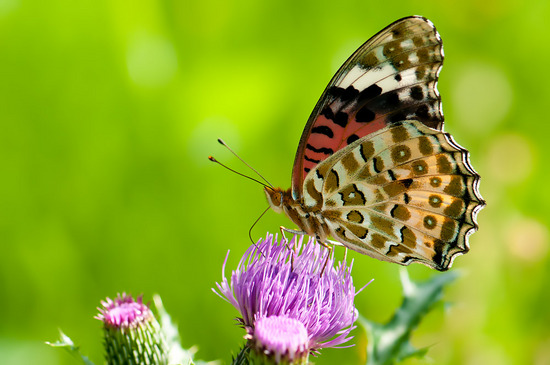Argyreus hyperbius: (205, 7, 486, 275)
butterfly: (207, 9, 488, 277)
